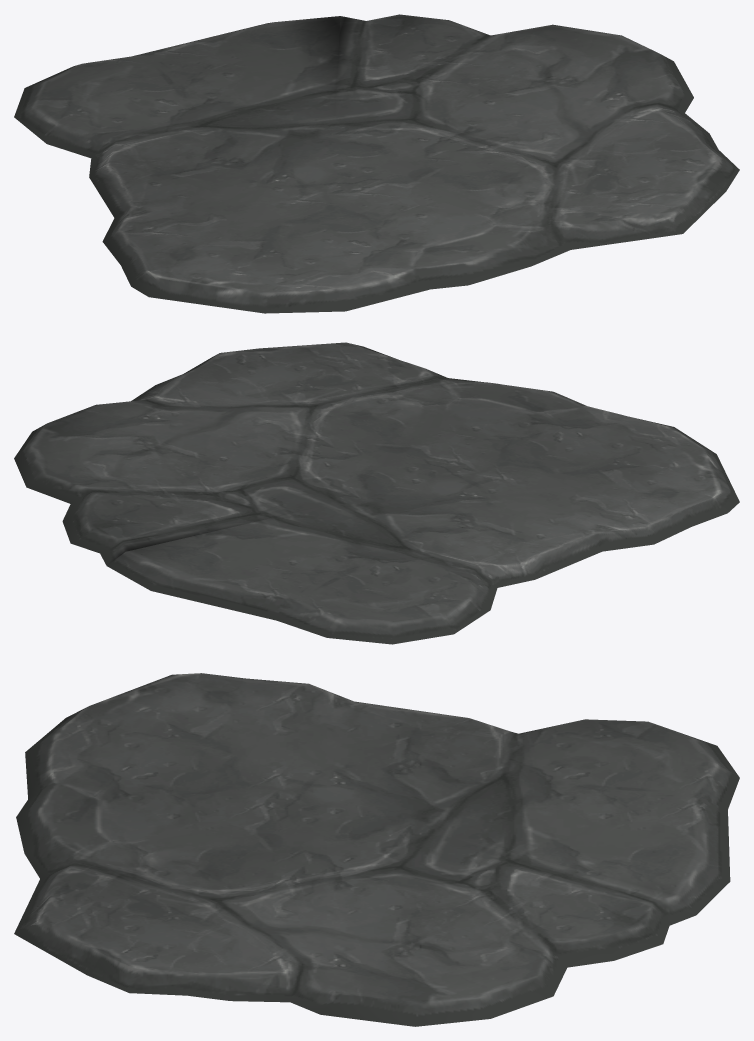
The model's file is yw_zhaoze_stones_001.FBX.
3 renders of one model, top to bottom at view 1: azimuth 30°, elevation 25°; view 2: azimuth 150°, elevation 25°; view 3: azimuth 270°, elevation 25°, orthographic. The views are drawn at different scales.
Parts seen in each view (by area): view 1: yw_zhaoze_stones_001; view 2: yw_zhaoze_stones_001; view 3: yw_zhaoze_stones_001.
Boxes of the visible parts, x1,y1,x2,y2 form: yw_zhaoze_stones_001: [14, 14, 739, 313]; yw_zhaoze_stones_001: [14, 342, 739, 644]; yw_zhaoze_stones_001: [14, 673, 739, 1026].
Bounding box in the file's own units: 1648 × 1451 × 29.82.
